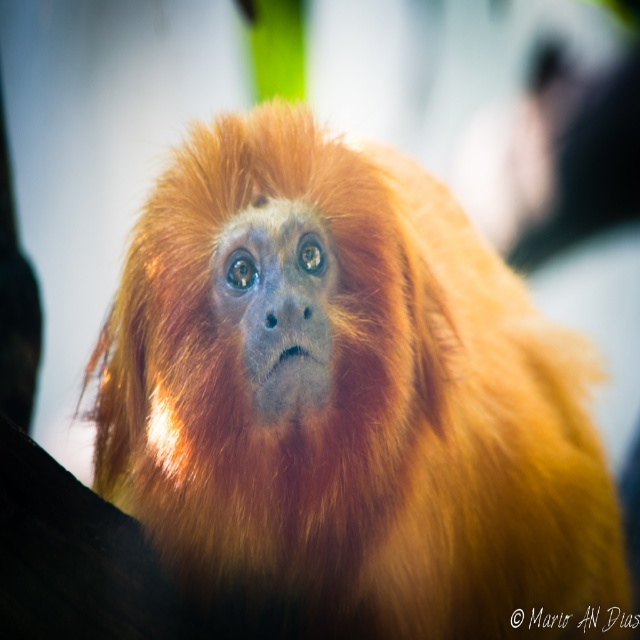Monkey: (37, 83, 640, 617)
